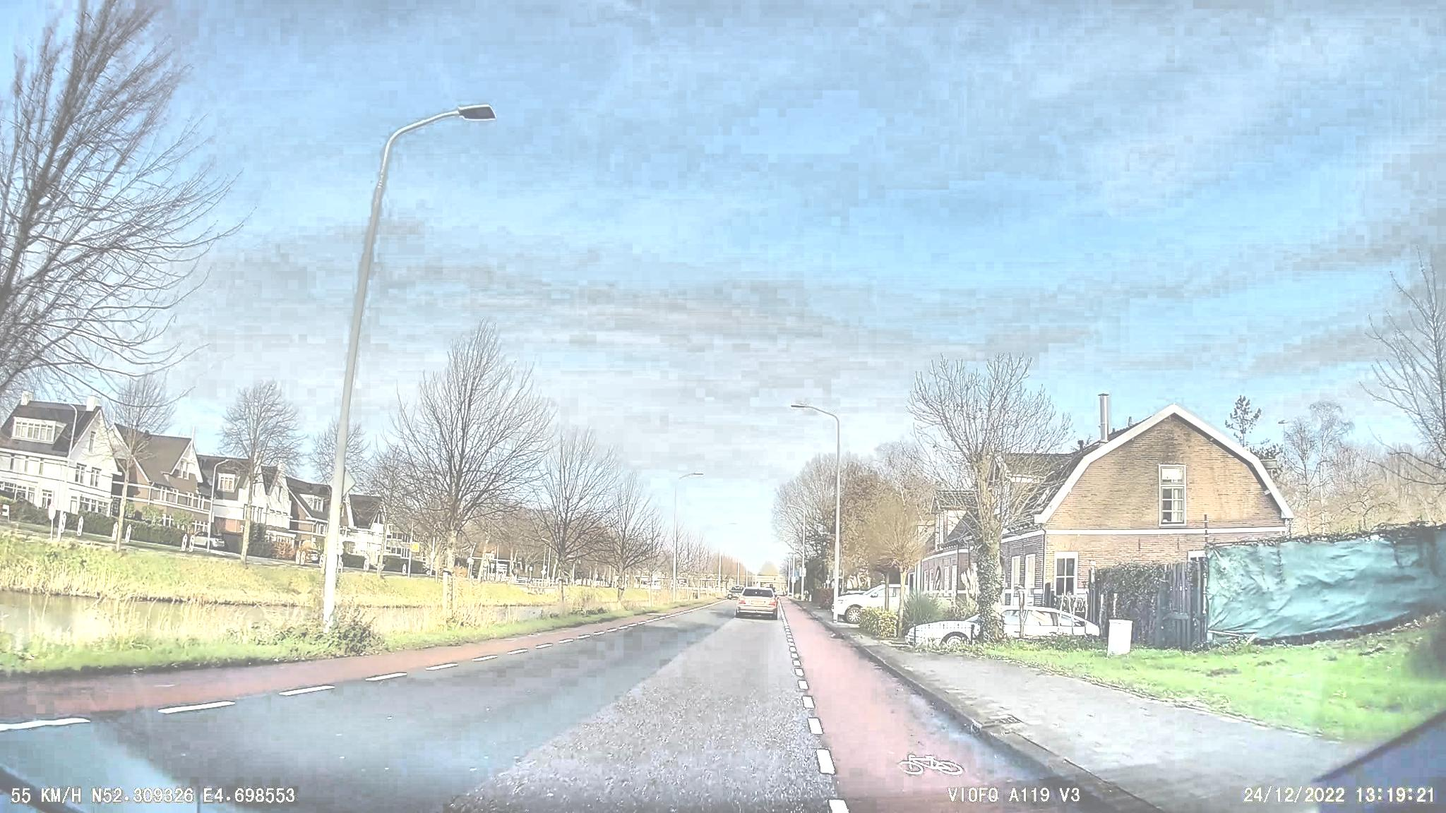Roads: (0, 598, 1078, 813)
